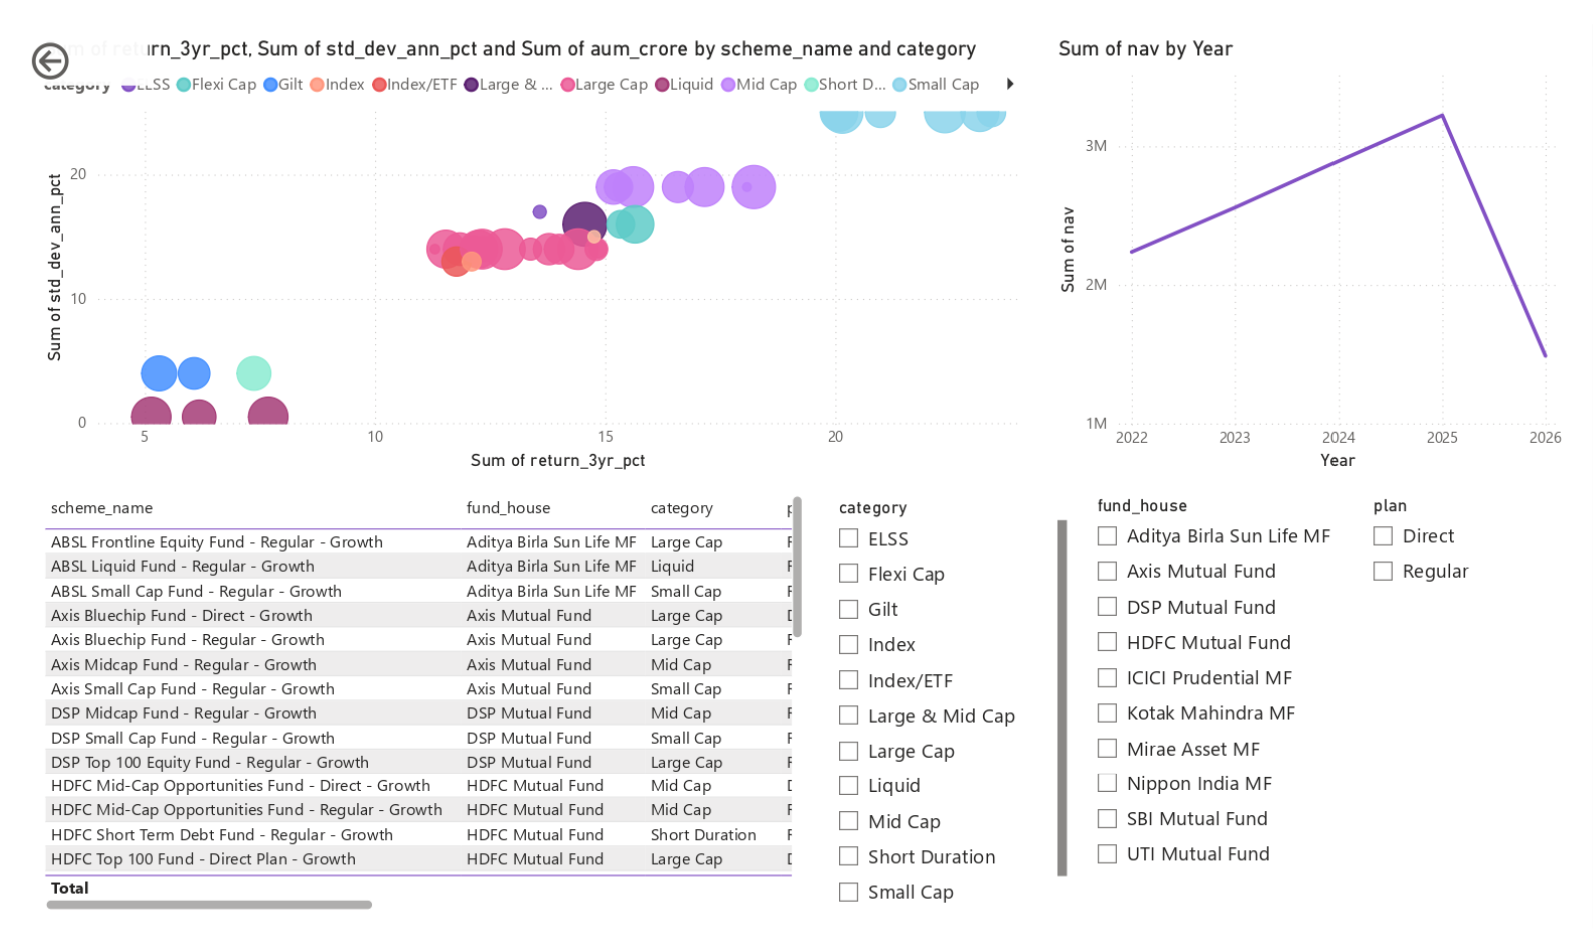

This screenshot's page, from the dashboard's own definition file:
{"tool":"powerbi","page":{"name":"Fund Performance","canvas":[1280,720],"ordinal":1},"visuals":[{"type":"scatterChart","fields":{"X":["Sum(07_scheme_performance_cleaned.return_3yr_pct)"],"Size":["Sum(07_scheme_performance_cleaned.aum_crore)"],"Category":["07_scheme_performance_cleaned.scheme_name"],"Y":["Sum(07_scheme_performance_cleaned.std_dev_ann_pct)"],"Series":["07_scheme_performance_cleaned.category"]},"box":[10,0,814.4,360],"z":0},{"type":"tableEx","fields":{"Values":["07_scheme_performance_cleaned.scheme_name","07_scheme_performance_cleaned.fund_house","07_scheme_performance_cleaned.category","07_scheme_performance_cleaned.plan","Sum(07_scheme_performance_cleaned.return_1yr_pct)","Sum(07_scheme_performance_cleaned.return_3yr_pct)","Sum(07_scheme_performance_cleaned.std_dev_ann_pct)","Sum(07_scheme_performance_cleaned.sharpe_ratio)","Sum(07_scheme_performance_cleaned.morningstar_rating)"]},"box":[10,370,630,350],"z":1},{"type":"actionButton","box":[0,0,100,40],"z":2},{"type":"lineChart","fields":{"Category":["02_nav_history_cleaned.date.Variation.Date Hierarchy.Year","02_nav_history_cleaned.date.Variation.Date Hierarchy.Quarter","02_nav_history_cleaned.date.Variation.Date Hierarchy.Month","02_nav_history_cleaned.date.Variation.Date Hierarchy.Day"],"Y":["Sum(02_nav_history_cleaned.nav)"]},"box":[838.9,0,420,360],"z":3},{"type":"slicer","fields":{"Values":["07_scheme_performance_cleaned.fund_house"]},"box":[863.3,370,213.3,350],"z":4},{"type":"slicer","fields":{"Values":["07_scheme_performance_cleaned.category"]},"box":[652.2,372.2,203.3,347.8],"z":5},{"type":"slicer","fields":{"Values":["07_scheme_performance_cleaned.plan"]},"box":[1087.8,370,192.2,350],"z":6}]}

Visuals, with their boxes on the page's 1280x720 design canvas (x1, y1, x2, y2). These are canvas units, not pixel positions in the 1593x932 screenshot, which may show the page scaled, cropped or inside an application window:
scatterChart - Sum(07_scheme_performance_cleaned.return_3yr_pct) x Sum(07_scheme_performance_cleaned.aum_crore): bbox=[10, 0, 824, 360]
tableEx - 07_scheme_performance_cleaned.scheme_name x 07_scheme_performance_cleaned.fund_house: bbox=[10, 370, 640, 720]
actionButton: bbox=[0, 0, 100, 40]
lineChart - 02_nav_history_cleaned.date.Variation.Date Hierarchy.Year x 02_nav_history_cleaned.date.Variation.Date Hierarchy.Quarter: bbox=[839, 0, 1259, 360]
slicer - 07_scheme_performance_cleaned.fund_house: bbox=[863, 370, 1077, 720]
slicer - 07_scheme_performance_cleaned.category: bbox=[652, 372, 856, 720]
slicer - 07_scheme_performance_cleaned.plan: bbox=[1088, 370, 1280, 720]
